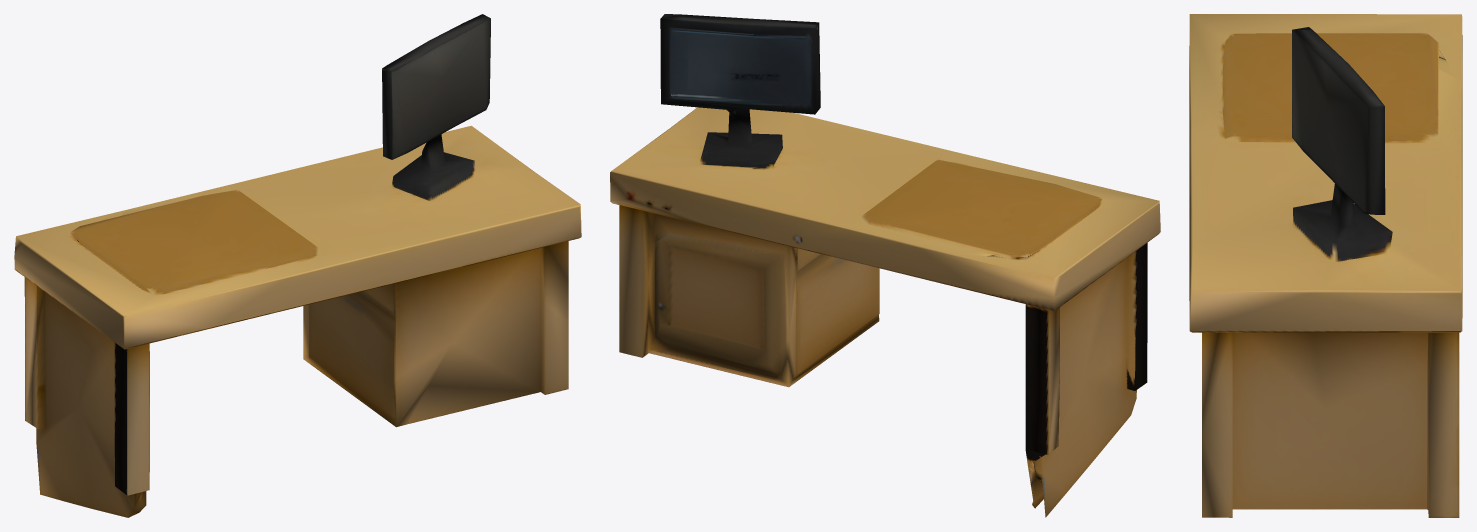
The model's file is PrisonerDesk.fbx.
3 views of the same model, side by side, from view 1: azimuth 30°, elevation 25°; view 2: azimuth 150°, elevation 25°; view 3: azimuth 270°, elevation 25° (orthographic). The views are drawn at different scales.
Parts seen in each view (by area): view 1: tripo_node_34bbf821; view 2: tripo_node_34bbf821; view 3: tripo_node_34bbf821.
Part boxes in pixels (x1,y1,x2,y2): tripo_node_34bbf821: (14,14,581,517); tripo_node_34bbf821: (610,14,1160,517); tripo_node_34bbf821: (1189,14,1462,517).
Bounding box in the file's own units: 99.98 × 41.52 × 82.5.
Materials: 1 (1 with a texture image).
